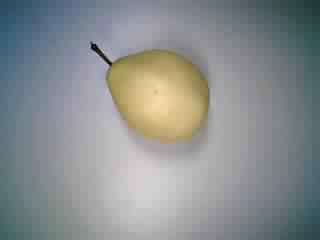pear: (76, 26, 218, 149)
